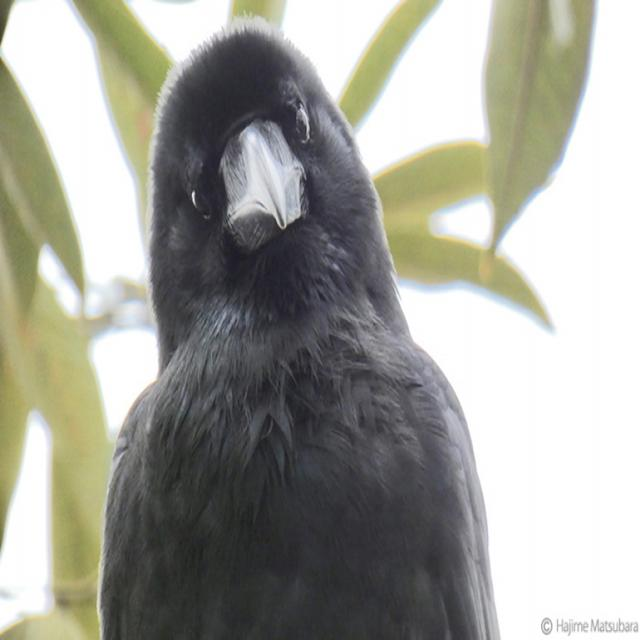crow: (84, 14, 515, 640)
